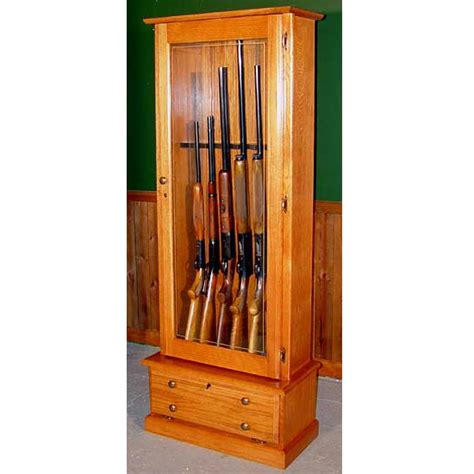gun: (229, 40, 251, 350), (215, 64, 235, 348), (247, 61, 265, 357), (184, 122, 205, 345), (199, 114, 219, 346)
